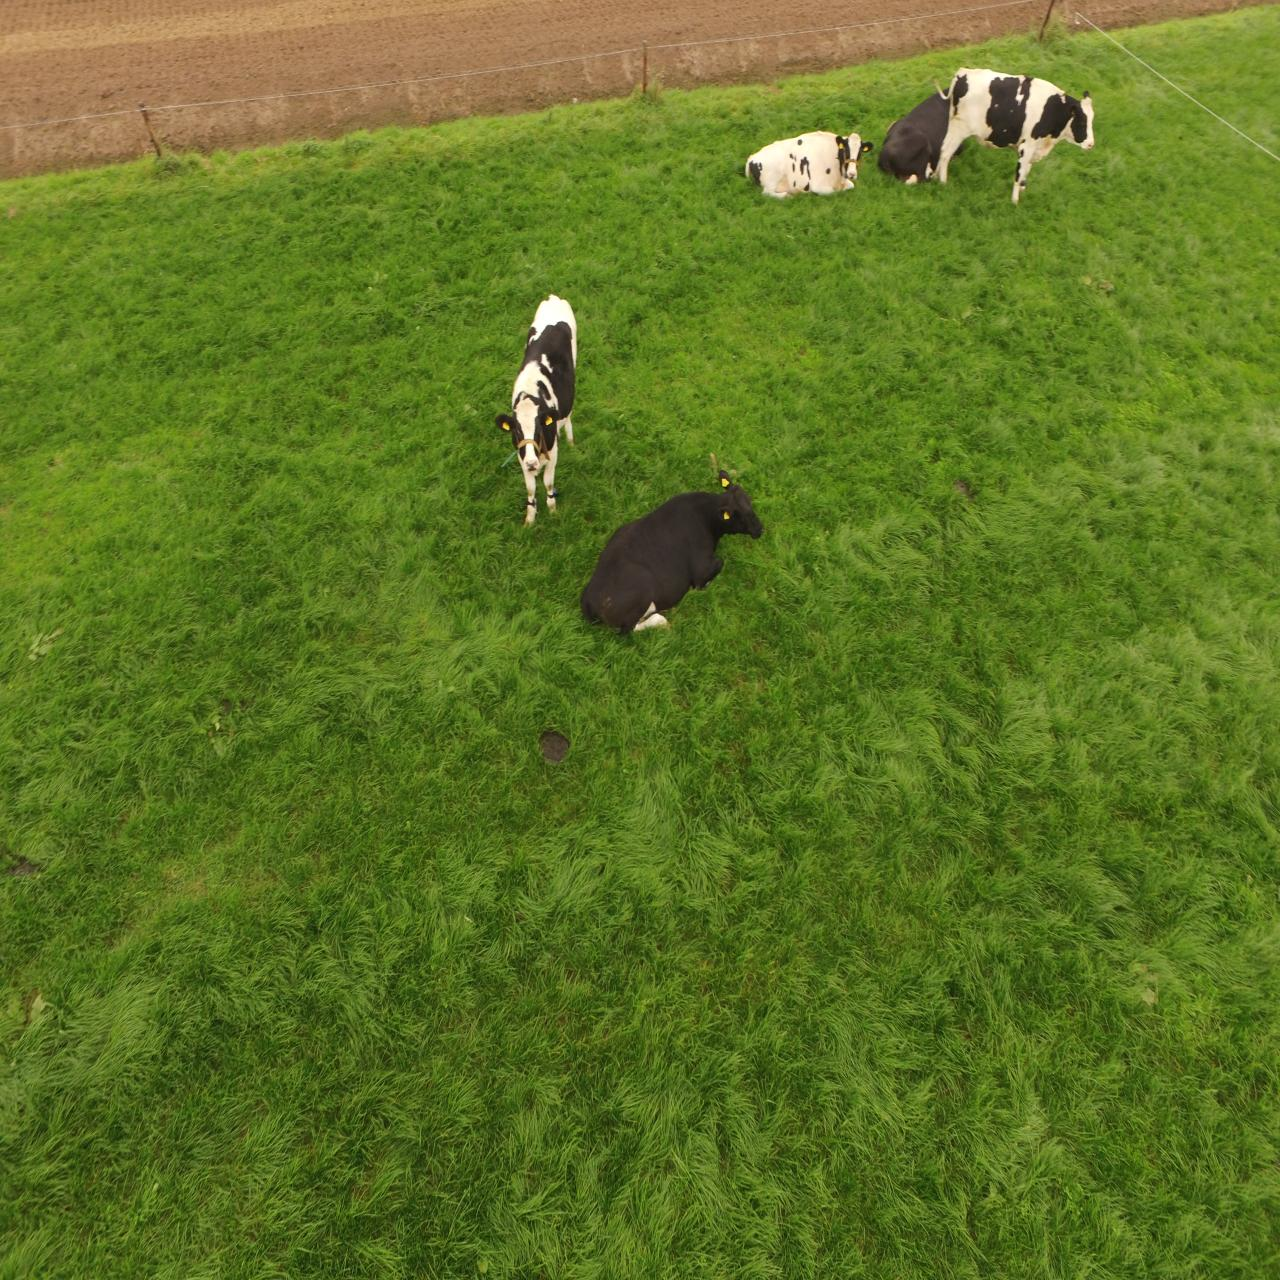cow: (496, 282, 591, 525), (599, 488, 753, 626), (952, 63, 1115, 168), (737, 141, 852, 204), (878, 98, 955, 184)
